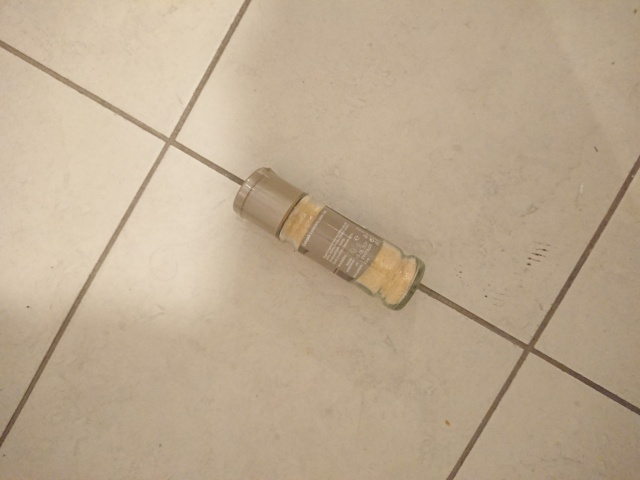Kotanyi Garlic Granules 70g: (231, 165, 427, 314)
